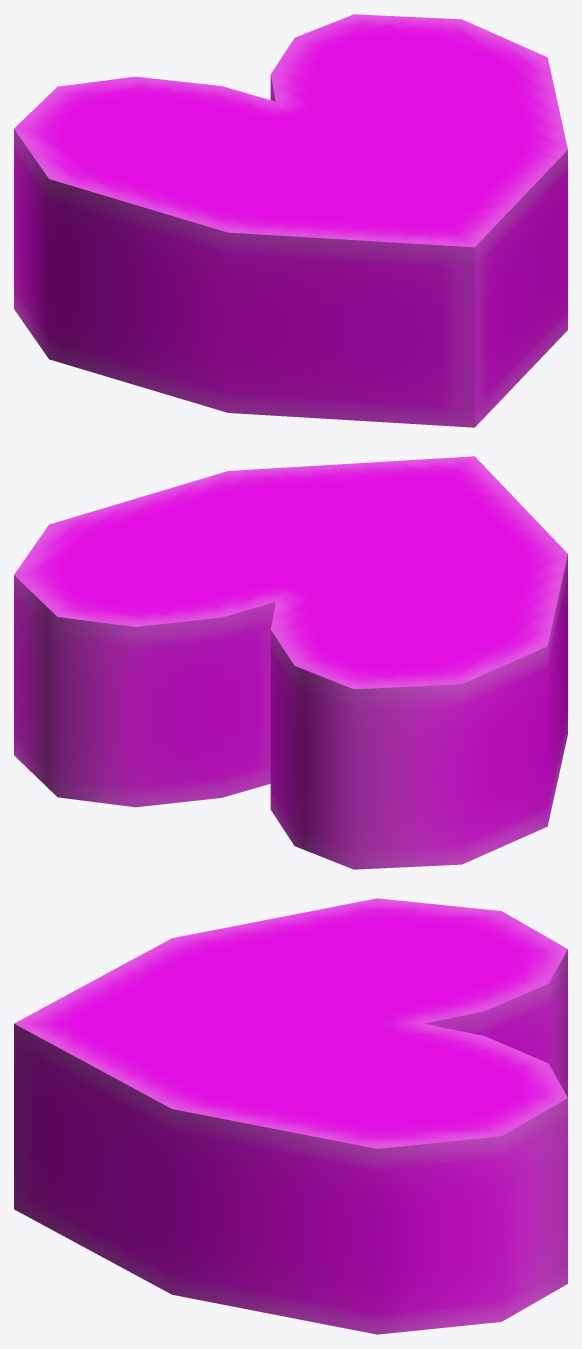
File: jsf_ChocolateDecoration_08.fbx
3 renders of one model, top to bottom at view 1: azimuth 30°, elevation 25°; view 2: azimuth 150°, elevation 25°; view 3: azimuth 270°, elevation 25°, orthographic. The views are drawn at different scales.
Parts seen in each view (by area): view 1: jsf_ChocolateDecoration_08; view 2: jsf_ChocolateDecoration_08; view 3: jsf_ChocolateDecoration_08.
Boxes of the visible parts, bbox=[...] form: jsf_ChocolateDecoration_08: bbox=[14, 14, 567, 427]; jsf_ChocolateDecoration_08: bbox=[14, 456, 567, 869]; jsf_ChocolateDecoration_08: bbox=[14, 898, 567, 1334].
Bounding box in the file's own units: 4.34 × 1.5 × 4.06.
